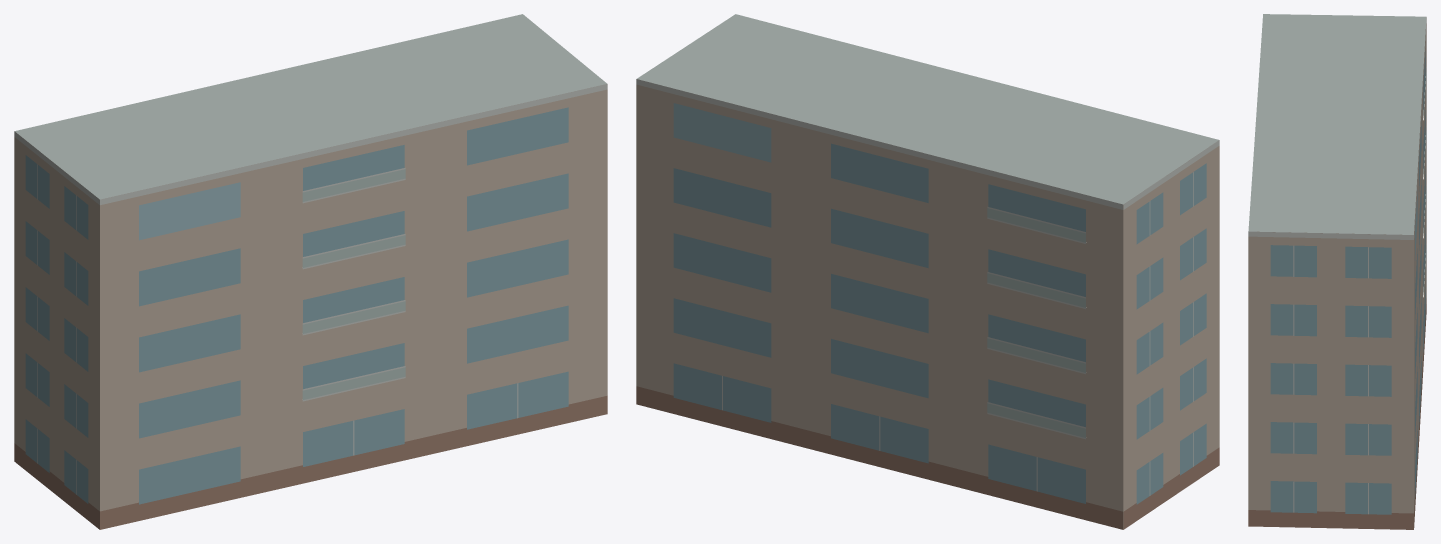
Rendered from survey-upis-32565232.glb.
The picture shows the model from 3 angles, left to right: view 1: azimuth 30°, elevation 25°; view 2: azimuth 150°, elevation 25°; view 3: azimuth 270°, elevation 25°; orthographic projection. The views are drawn at different scales.
Visible parts, largest first — view 1: survey-upis-32565232.tmp; view 2: survey-upis-32565232.tmp; view 3: survey-upis-32565232.tmp.
Boxes of the visible parts, x1,y1,x2,y2 form: survey-upis-32565232.tmp: (14,14,607,529); survey-upis-32565232.tmp: (636,14,1219,529); survey-upis-32565232.tmp: (1248,14,1426,529).
Size of the model in its own units: 22.84 by 14.2 by 7.78.
